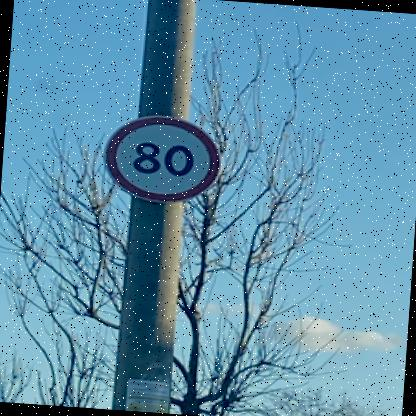speedlimit: (99, 111, 222, 205)
